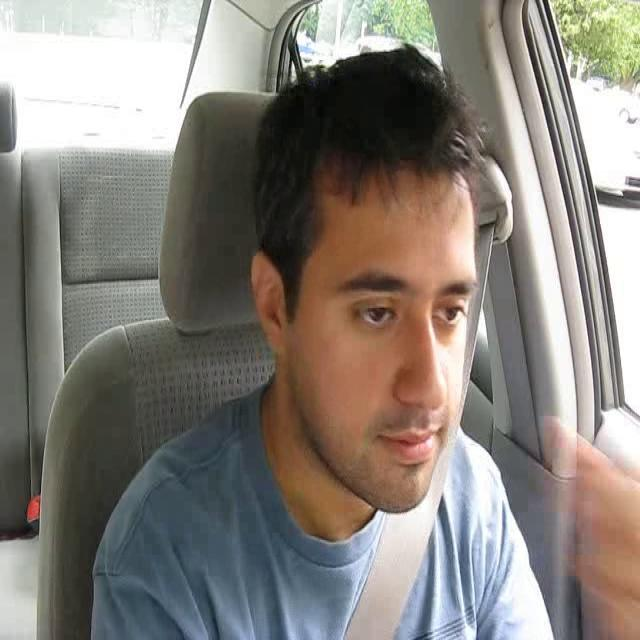close: (377, 423, 444, 467)
